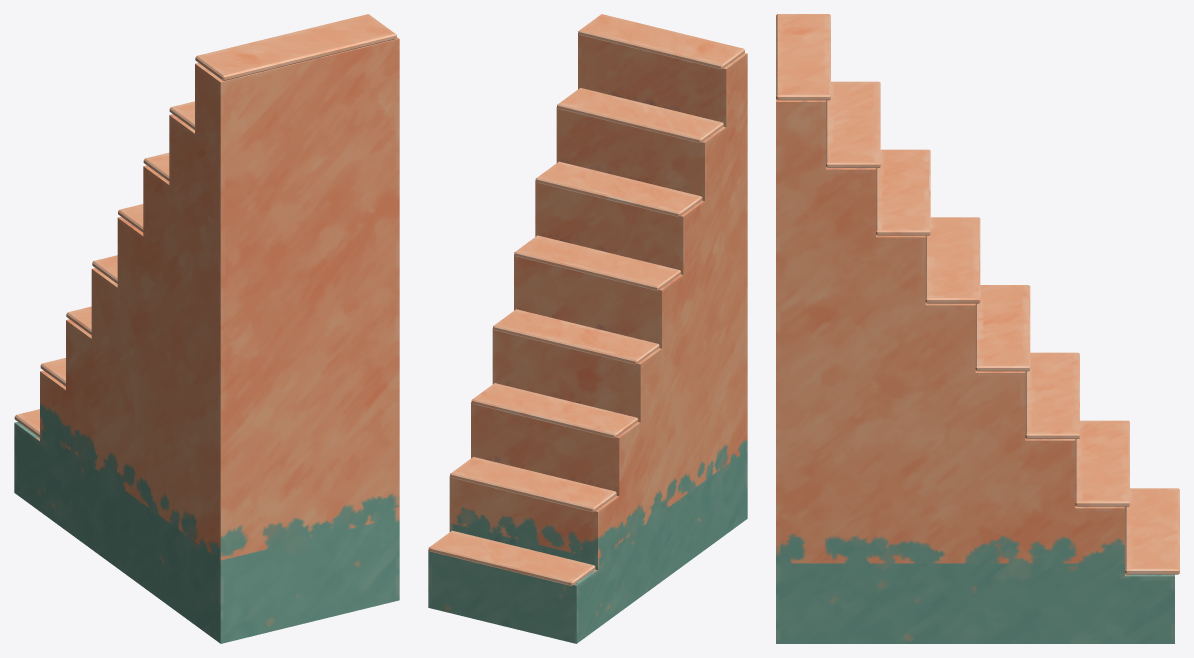
Rendered from stairs_narrow.fbx.
The picture shows the model from 3 angles, left to right: view 1: azimuth 30°, elevation 25°; view 2: azimuth 150°, elevation 25°; view 3: azimuth 270°, elevation 25°; orthographic projection. The views are drawn at different scales.
Visible parts, largest first — view 1: stairs_narrow; view 2: stairs_narrow; view 3: stairs_narrow.
Boxes of the visible parts, left/top/right/bottom form: stairs_narrow: left=14, top=14, right=399, bottom=643; stairs_narrow: left=428, top=14, right=747, bottom=643; stairs_narrow: left=776, top=14, right=1179, bottom=643.
Bounding box in the file's own units: 4 × 12.12 × 8.1.
Materials: 1 (1 with a texture image).
